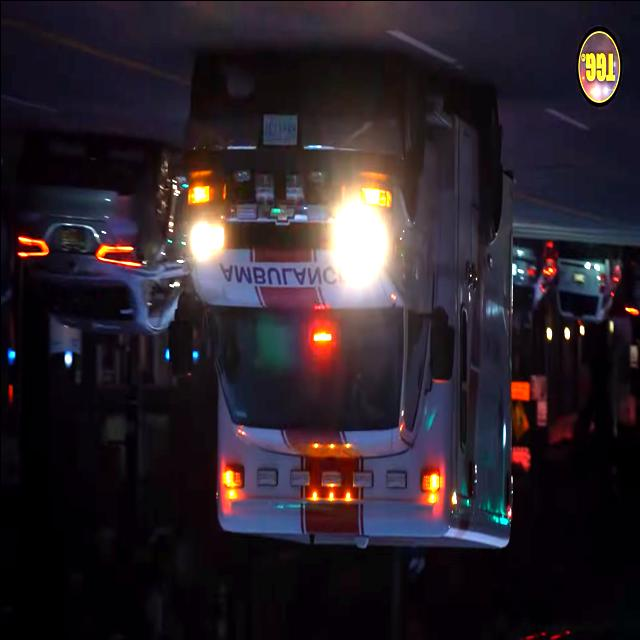emergency-vehicles: (151, 49, 532, 566)
